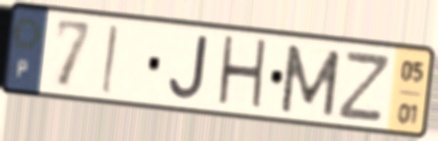7: (52, 16, 93, 92)
H: (213, 32, 270, 115)
I: (98, 22, 120, 98)
J: (165, 34, 210, 104)
M: (277, 41, 344, 120)
Z: (333, 50, 395, 126)
